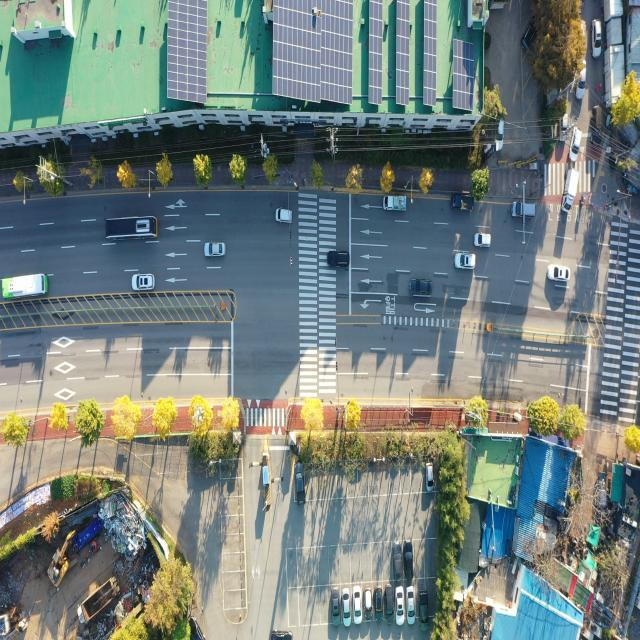car: (522, 16, 541, 54), (592, 18, 604, 62), (568, 125, 582, 162), (409, 279, 434, 299), (576, 58, 588, 99), (131, 274, 155, 294), (512, 200, 536, 219), (205, 238, 227, 258), (404, 539, 414, 581), (296, 460, 306, 502), (327, 252, 351, 268), (353, 586, 363, 624), (418, 591, 428, 629), (395, 586, 404, 628), (455, 252, 476, 270), (385, 584, 394, 624), (494, 121, 506, 151), (548, 266, 570, 282), (560, 112, 570, 147), (332, 587, 341, 624), (424, 464, 435, 492), (407, 587, 414, 626), (394, 542, 401, 581), (375, 585, 383, 619), (365, 586, 374, 616), (344, 589, 352, 621), (474, 231, 490, 247), (276, 209, 294, 223)
large_bus: (104, 214, 158, 242), (1, 272, 50, 302)
medium_truck: (77, 574, 122, 626)
small_truck: (561, 168, 582, 215), (384, 193, 408, 212), (451, 195, 475, 212)
